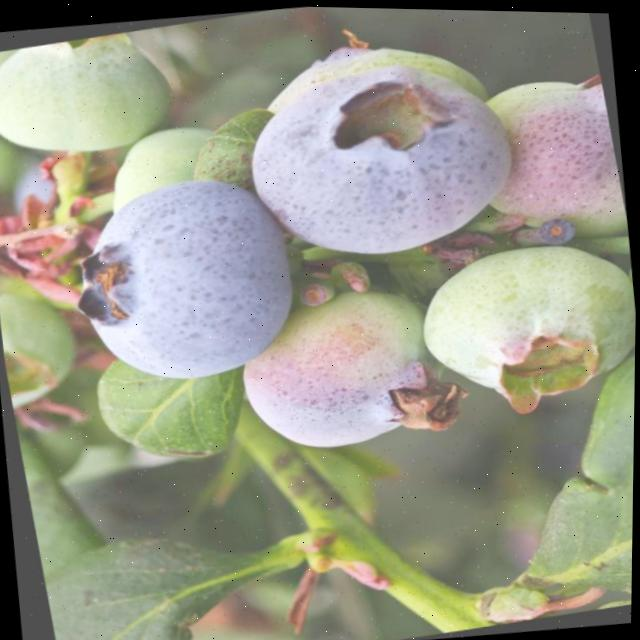RipeBlueBerry: (225, 35, 536, 281), (50, 158, 314, 402)
Semi-RipeBlueBerry: (222, 273, 450, 466)
UnripeBlueBerry: (400, 222, 637, 429)
